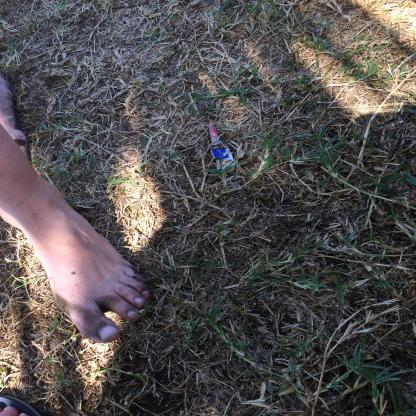metal: (207, 122, 237, 170)
